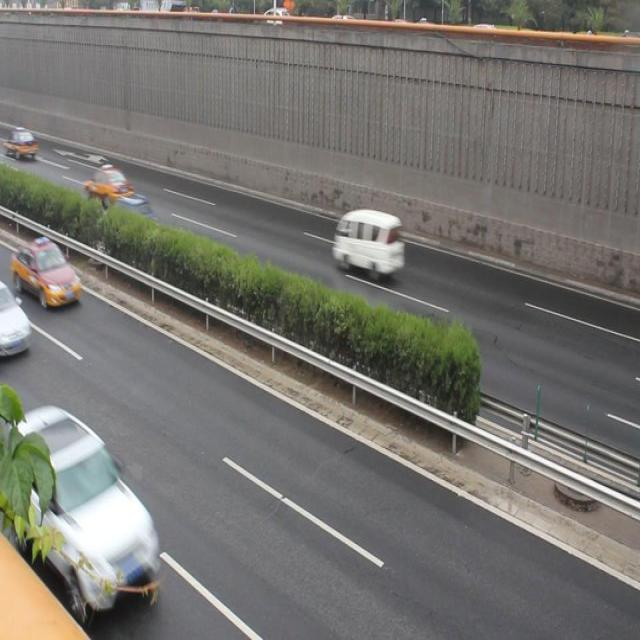car: (14, 410, 155, 609), (13, 236, 82, 308), (1, 278, 30, 362), (103, 194, 156, 236), (84, 167, 132, 210)
truck: (333, 210, 403, 276)
